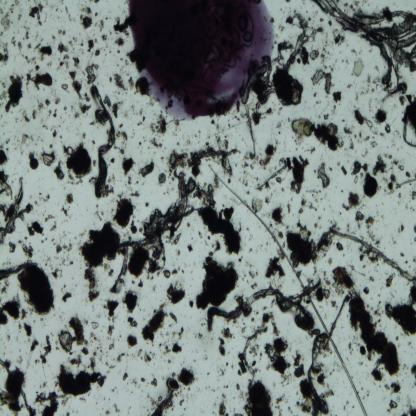Background material: (344, 291, 401, 376), (79, 222, 119, 301), (0, 261, 55, 314), (268, 42, 305, 109), (195, 207, 244, 255), (196, 256, 239, 310), (284, 224, 334, 266), (0, 359, 36, 415), (188, 137, 240, 175), (290, 119, 343, 151), (58, 364, 107, 397), (238, 100, 259, 170), (285, 14, 308, 73), (140, 304, 170, 344), (264, 338, 293, 379), (150, 376, 180, 415), (383, 302, 416, 335), (62, 144, 93, 178), (59, 314, 86, 352), (244, 383, 274, 414), (401, 90, 416, 148), (187, 177, 216, 207), (4, 74, 25, 114), (0, 292, 26, 324), (290, 156, 309, 194), (361, 72, 391, 94), (112, 198, 134, 228), (261, 255, 287, 280), (24, 43, 53, 65), (312, 70, 336, 96), (36, 393, 63, 416), (67, 70, 85, 101), (389, 154, 411, 178), (296, 380, 311, 412), (302, 186, 322, 210), (166, 109, 184, 135), (26, 72, 52, 90), (88, 332, 104, 361), (340, 190, 362, 211), (362, 172, 379, 199), (167, 282, 187, 304), (148, 113, 167, 136), (122, 288, 138, 315), (259, 144, 276, 169), (317, 161, 331, 190), (177, 367, 196, 388), (353, 110, 374, 129), (28, 3, 44, 27), (42, 211, 58, 235), (103, 300, 122, 320), (168, 149, 187, 169), (351, 163, 369, 184), (292, 352, 305, 380), (244, 262, 257, 289), (80, 5, 94, 30), (372, 153, 387, 176), (40, 335, 51, 363), (364, 227, 382, 244), (384, 176, 402, 193), (114, 16, 130, 35), (135, 77, 151, 96), (25, 221, 44, 236), (85, 64, 99, 84), (0, 12, 12, 35), (138, 162, 155, 178), (272, 207, 286, 226), (113, 72, 127, 91), (0, 41, 10, 66), (163, 343, 182, 356), (116, 129, 126, 153), (40, 151, 55, 167), (383, 271, 397, 288), (374, 107, 388, 124), (122, 157, 135, 175), (21, 243, 34, 260), (352, 58, 365, 75), (69, 34, 84, 48), (407, 281, 416, 304), (20, 132, 32, 149), (217, 336, 226, 358), (55, 242, 73, 253), (370, 368, 384, 382), (125, 334, 139, 348), (251, 198, 264, 213), (218, 398, 230, 414), (0, 147, 10, 166), (54, 163, 64, 182), (78, 100, 92, 113), (217, 363, 230, 377), (386, 399, 400, 412), (59, 203, 69, 221), (389, 380, 401, 395), (112, 102, 121, 122), (57, 39, 70, 52), (29, 152, 38, 170), (59, 52, 69, 68), (30, 336, 40, 352), (0, 82, 8, 102), (149, 137, 163, 148), (23, 323, 32, 340), (68, 356, 83, 366), (134, 277, 144, 292), (106, 324, 115, 340), (384, 122, 393, 138), (396, 248, 408, 260), (298, 198, 306, 216), (236, 363, 247, 376), (334, 33, 345, 46), (220, 327, 233, 338), (168, 311, 178, 325), (86, 37, 94, 54), (89, 357, 98, 372), (142, 352, 154, 363), (274, 394, 286, 405), (114, 36, 125, 48), (61, 290, 72, 302), (363, 214, 375, 225), (52, 266, 63, 278), (332, 90, 342, 103), (128, 316, 138, 329), (176, 326, 185, 340), (40, 192, 51, 203), (157, 172, 167, 184), (354, 211, 364, 223), (284, 14, 294, 26), (342, 124, 352, 136), (24, 203, 34, 215), (130, 220, 138, 235), (143, 197, 152, 210), (128, 76, 136, 90), (116, 352, 126, 363), (410, 363, 416, 381), (98, 19, 106, 32), (90, 320, 100, 330), (162, 269, 171, 280), (137, 116, 146, 127), (104, 94, 112, 106), (8, 241, 16, 253), (398, 218, 404, 233), (60, 82, 69, 92), (66, 192, 74, 203), (126, 175, 134, 186), (340, 165, 348, 176), (130, 190, 141, 198), (81, 347, 90, 356), (406, 407, 416, 415), (336, 242, 344, 252), (10, 35, 16, 48), (24, 28, 30, 40), (348, 139, 354, 151), (122, 372, 129, 382), (73, 57, 80, 67), (8, 4, 15, 14), (101, 32, 108, 42), (16, 40, 22, 51), (358, 346, 366, 354), (370, 141, 378, 149), (23, 115, 31, 123), (84, 92, 90, 102), (410, 192, 416, 202), (327, 18, 333, 28), (32, 109, 38, 119), (107, 364, 117, 370), (26, 40, 32, 50), (54, 96, 61, 104), (58, 29, 66, 36), (93, 48, 100, 56), (52, 127, 57, 138), (38, 101, 43, 111), (109, 342, 115, 350), (45, 98, 51, 106), (197, 332, 203, 340), (187, 302, 193, 310), (187, 245, 193, 252), (53, 108, 57, 117), (14, 0, 18, 8), (34, 66, 40, 71), (93, 0, 100, 4)
Cellulose filter fibre: (111, 173, 187, 287), (314, 0, 416, 64), (207, 280, 318, 331), (329, 226, 416, 282), (96, 85, 116, 194), (308, 335, 329, 414), (0, 180, 24, 242), (258, 159, 288, 190), (243, 332, 259, 389)
Hair: (209, 166, 368, 416)
Pen: (128, 0, 274, 119)
